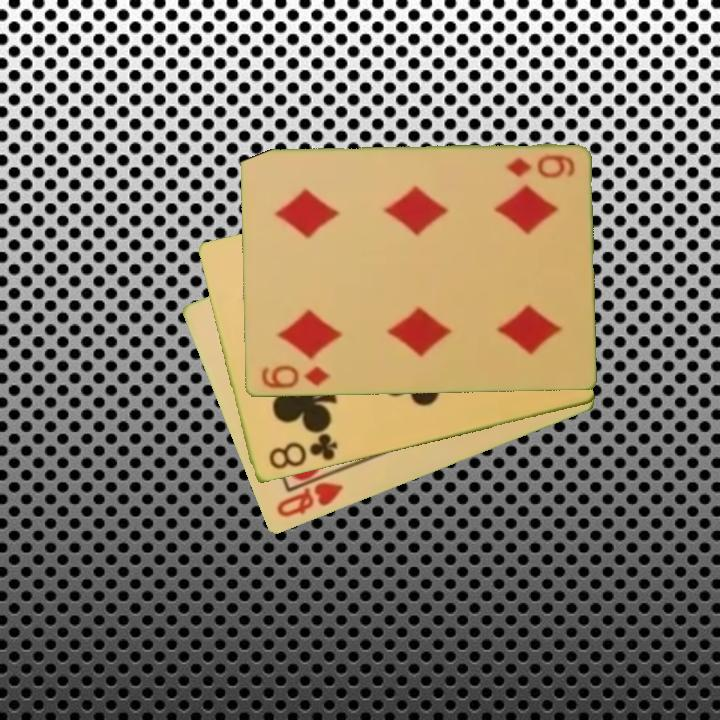6d: (502, 151, 577, 182), (257, 362, 332, 392)
8c: (264, 430, 340, 473)
Qh: (273, 468, 346, 521)
